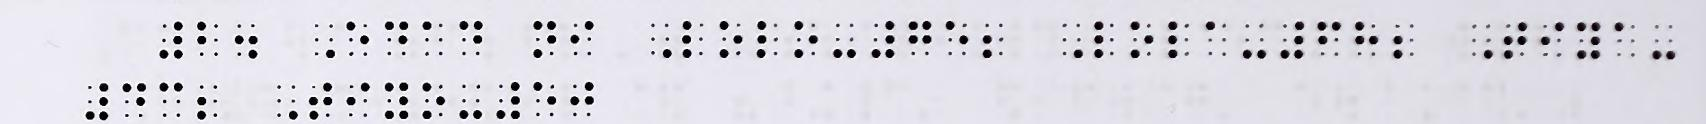capital_sign: (652, 23, 672, 59), (1062, 23, 1083, 58), (1472, 24, 1493, 59), (277, 85, 298, 120), (314, 24, 335, 58)
digit_0: (570, 82, 594, 116)
digit_2: (197, 21, 219, 57)
digit_3: (160, 83, 183, 117)
digit_4: (122, 83, 146, 117)
digit_5: (945, 21, 969, 57), (533, 83, 556, 116)
digit_6: (1318, 21, 1342, 57)
digit_7: (908, 21, 932, 57)
digit_8: (1355, 21, 1379, 57)
letter_E: (346, 21, 369, 57)
letter_L: (682, 21, 703, 58), (1095, 21, 1114, 58)
letter_T: (1504, 22, 1528, 59), (309, 82, 332, 120)
letter_a: (1614, 22, 1635, 57), (422, 21, 443, 57), (1206, 21, 1226, 55)
letter_d: (459, 21, 483, 57), (384, 21, 408, 55)
letter_i: (570, 21, 594, 57), (346, 82, 370, 117), (1541, 22, 1565, 57)
letter_l: (757, 21, 778, 59), (1169, 21, 1189, 59)
letter_n: (533, 21, 556, 58)
letter_o: (794, 21, 818, 59), (719, 21, 743, 58), (1130, 21, 1153, 59), (422, 82, 445, 120)
letter_y: (1577, 22, 1600, 59), (385, 83, 408, 120)
number_sign: (870, 21, 895, 59), (1279, 21, 1305, 59), (159, 21, 183, 59), (85, 83, 109, 121), (496, 82, 520, 120)
